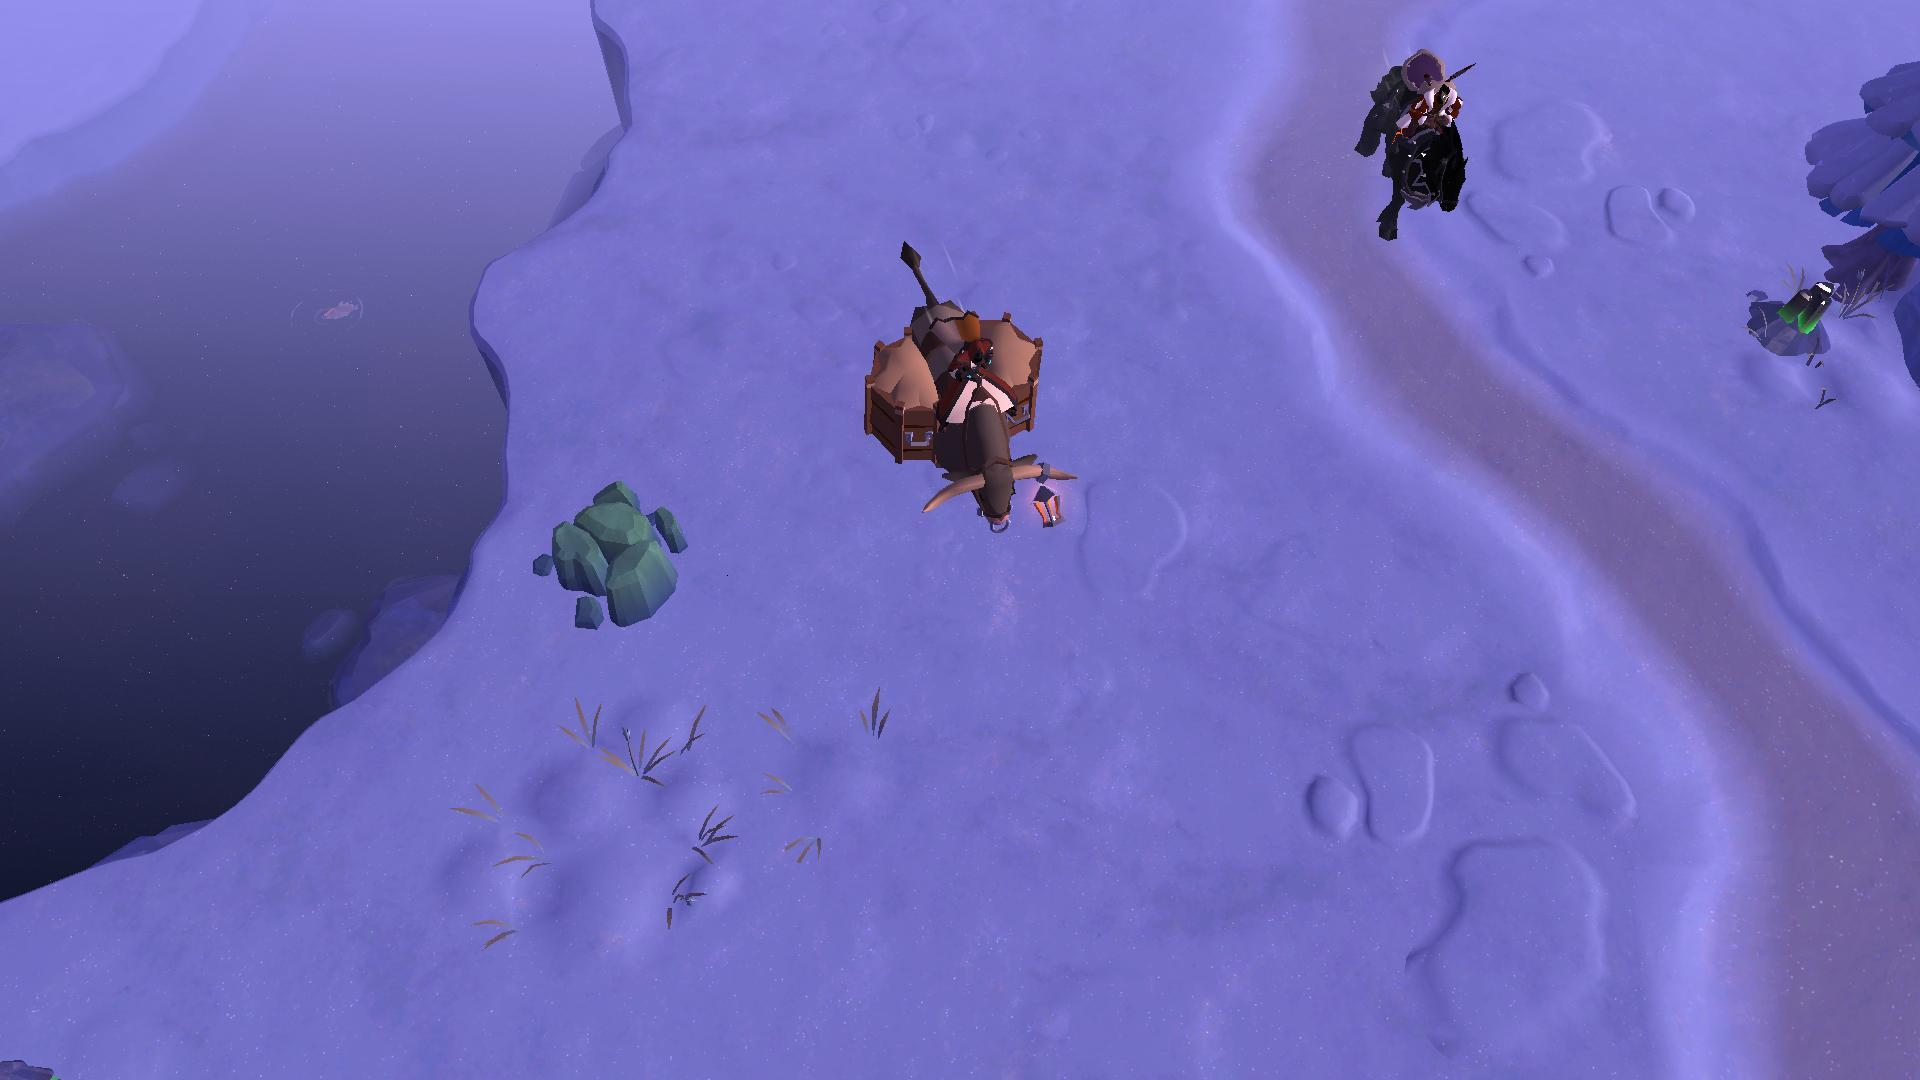ore_t3: (1742, 266, 1845, 356)
rock_t3: (518, 469, 690, 622)
